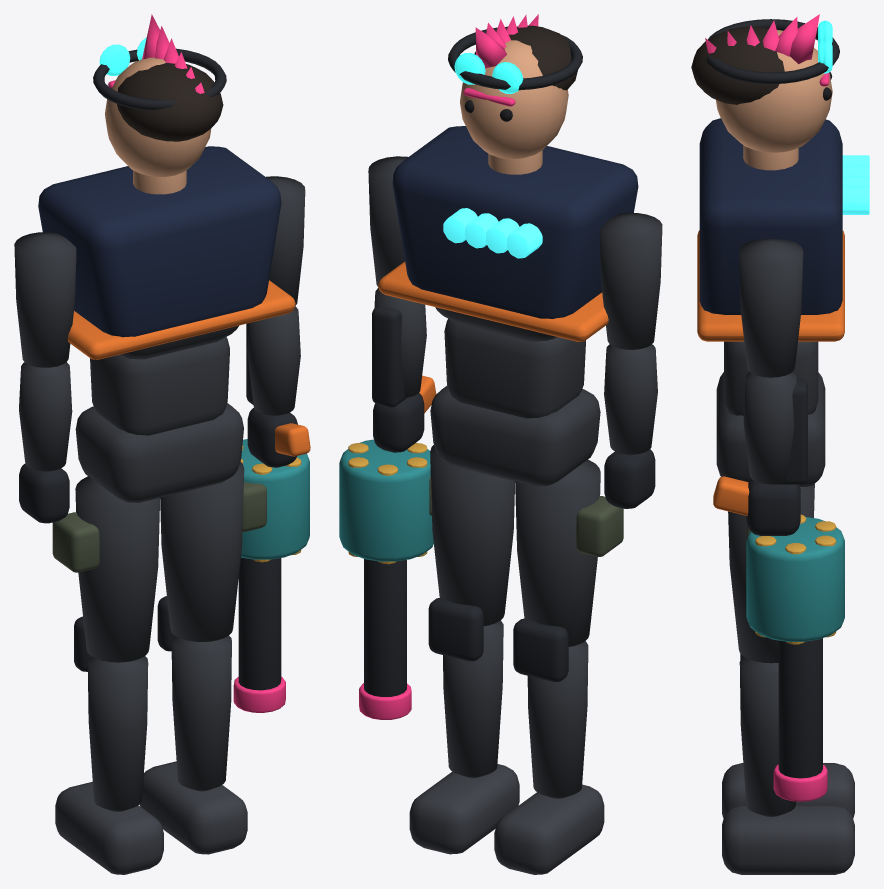
Rendered from phase.glb.
3 views of the same model, side by side, from view 1: azimuth 30°, elevation 25°; view 2: azimuth 150°, elevation 25°; view 3: azimuth 270°, elevation 25° (orthographic). The views are drawn at different scales.
Visible parts, largest first — view 1: Jacket, Thigh0, Thigh1, Pelvis, Waist, Shin1, Shin0, UpperArm0, Boot0, Boot1, HairCap, Barrel (+18 smaller); view 2: Jacket, Pelvis, Thigh0, Thigh1, Waist, Drum, UpperArm0, Shin1, Shin0, Boot0, Head, Boot1 (+22 smaller); view 3: Jacket, Drum, Boot1, UpperArm1, Head, Barrel, Shin1, Forearm1, HairCap, Pelvis, Thigh1, JacketTrim (+12 smaller).
Boxes of the visible parts, <box> form: Jacket: <box>38,146,281,337</box>; Thigh0: <box>75,476,160,662</box>; Thigh1: <box>160,461,244,641</box>; Pelvis: <box>75,403,243,502</box>; Waist: <box>90,337,229,435</box>; Shin1: <box>171,635,231,791</box>; Shin0: <box>87,656,148,811</box>; UpperArm0: <box>14,232,76,367</box>; Boot0: <box>55,782,163,874</box>; Boot1: <box>139,761,247,854</box>; HairCap: <box>117,63,223,141</box>; Barrel: <box>238,557,281,690</box>; Jacket: <box>392,126,638,318</box>; Pelvis: <box>430,385,600,486</box>; Thigh0: <box>515,459,600,646</box>; Thigh1: <box>430,445,515,626</box>; Waist: <box>444,319,585,418</box>; Drum: <box>339,439,433,561</box>; UpperArm0: <box>599,212,662,349</box>; Shin1: <box>443,620,503,778</box>; Shin0: <box>527,641,588,798</box>; Boot0: <box>494,784,604,874</box>; Head: <box>460,40,568,159</box>; Boot1: <box>409,764,519,854</box>; Jacket: <box>699,118,842,314</box>; Drum: <box>746,516,844,641</box>; Boot1: <box>722,805,854,874</box>; UpperArm1: <box>739,239,803,377</box>; Head: <box>716,30,832,152</box>; Barrel: <box>778,638,822,778</box>; Shin1: <box>739,656,796,817</box>; Forearm1: <box>743,372,796,484</box>; HairCap: <box>691,26,784,104</box>; Pelvis: <box>716,372,825,486</box>; Thigh1: <box>728,484,814,663</box>; JacketTrim: <box>697,230,844,341</box>.
Size of the model in its own units: 0.716 by 1.88 by 0.362.
